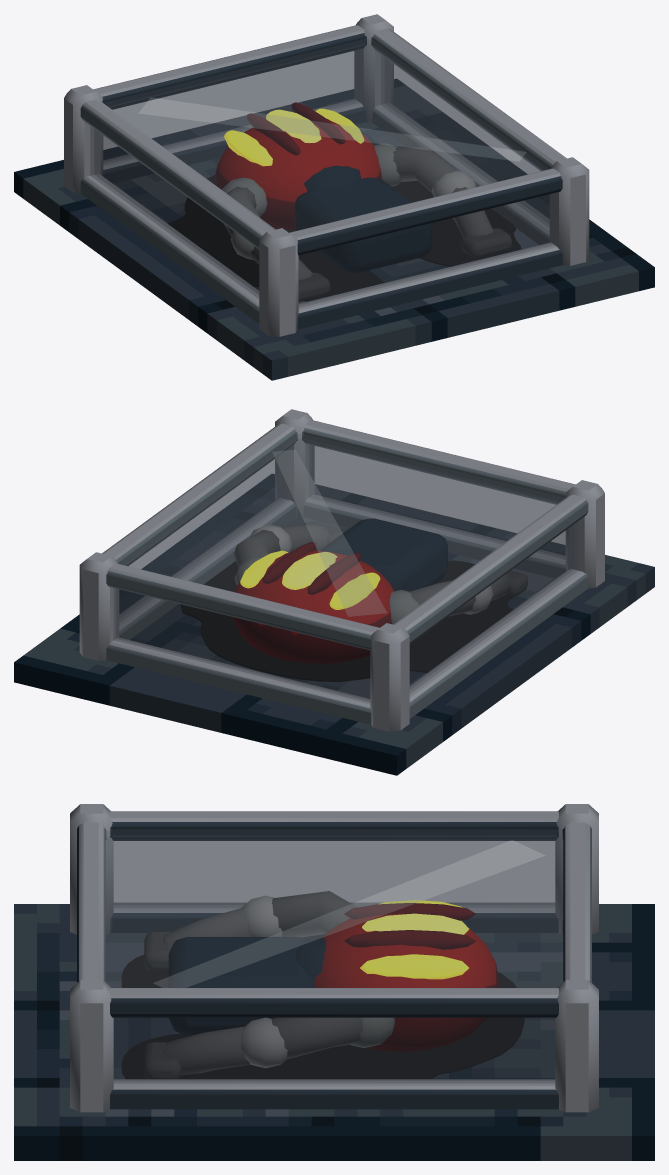
The model's file is glass_hatch.glb.
The picture shows the model from 3 angles, top to bottom: view 1: azimuth 30°, elevation 25°; view 2: azimuth 150°, elevation 25°; view 3: azimuth 270°, elevation 25°; orthographic projection. The views are drawn at different scales.
Visible parts, largest first — view 1: pane, tiles, rim, sill, wall_s, wall_n, wall_w, pit0, dome, body, wall_e, glint (+17 smaller); view 2: pane, tiles, rim, sill, wall_n, wall_s, pit0, wall_w, dome, wall_e, glint, body (+13 smaller); view 3: pane, tiles, rim, wall_e, wall_w, sill, pit0, dome, glint, body, post8.6-10.6, post8.610.6 (+16 smaller).
Part boxes in pixels (bbox=[...]): pane: bbox=[104, 39, 548, 232]; tiles: bbox=[14, 79, 654, 380]; rim: bbox=[80, 25, 566, 255]; sill: bbox=[80, 99, 562, 329]; wall_s: bbox=[299, 193, 554, 307]; wall_n: bbox=[103, 50, 359, 162]; wall_w: bbox=[90, 127, 258, 298]; pit0: bbox=[167, 175, 520, 301]; dome: bbox=[215, 119, 381, 229]; body: bbox=[294, 177, 431, 272]; wall_e: bbox=[381, 55, 549, 223]; glint: bbox=[139, 97, 526, 161]; pane: bbox=[120, 434, 564, 627]; tiles: bbox=[14, 474, 654, 775]; rim: bbox=[102, 420, 588, 650]; sill: bbox=[106, 494, 588, 724]; wall_n: bbox=[114, 588, 369, 702]; wall_s: bbox=[309, 445, 565, 557]; pit0: bbox=[181, 560, 513, 681]; wall_w: bbox=[410, 522, 578, 693]; dome: bbox=[233, 550, 393, 663]; wall_e: bbox=[119, 459, 287, 618]; glint: bbox=[272, 450, 386, 616]; body: bbox=[320, 518, 447, 591]; pane: bbox=[106, 830, 562, 987]; tiles: bbox=[14, 904, 654, 1160]; rim: bbox=[77, 811, 591, 1017]; wall_e: bbox=[114, 1018, 554, 1083]; wall_w: bbox=[114, 841, 554, 906]; sill: bbox=[105, 903, 563, 1109]; pit0: bbox=[121, 934, 524, 1079]; dome: bbox=[314, 913, 499, 1051]; glint: bbox=[153, 840, 544, 987]; body: bbox=[168, 937, 314, 1034]; post8.6-10.6: bbox=[70, 980, 113, 1112]; post8.610.6: bbox=[555, 980, 598, 1112].
Bounding box in the file's own units: 24 × 7 × 28.
